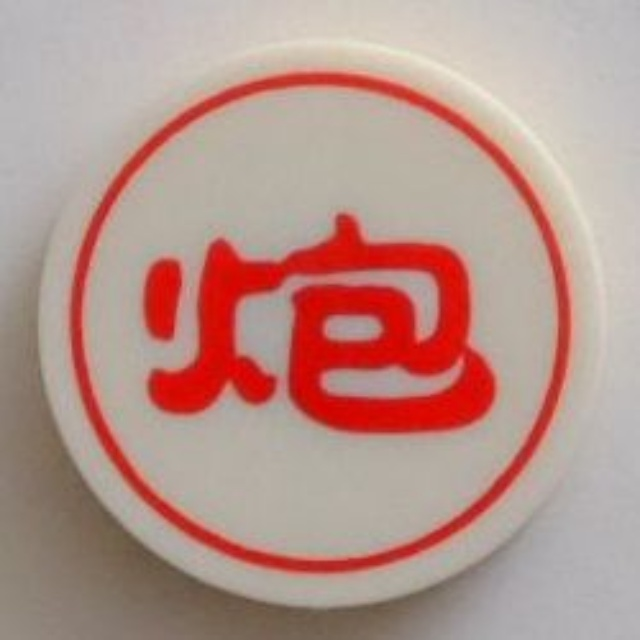red_phao: (35, 38, 618, 617)
